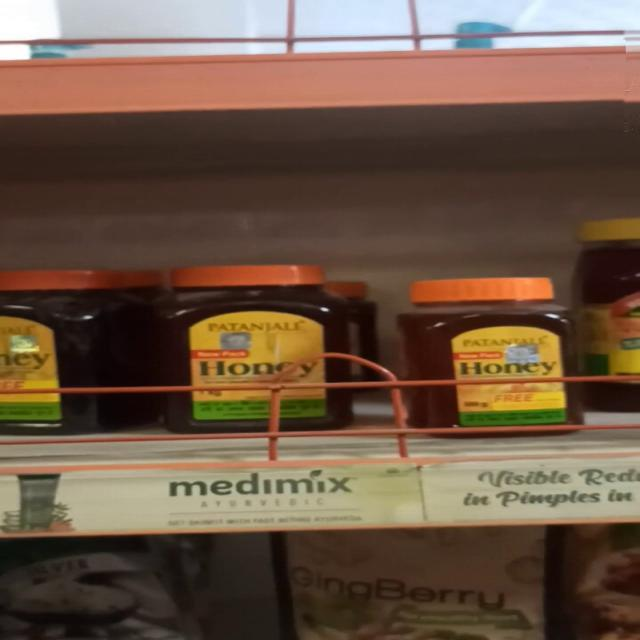Patanjali Honey: (166, 262, 353, 436), (397, 278, 578, 437)
